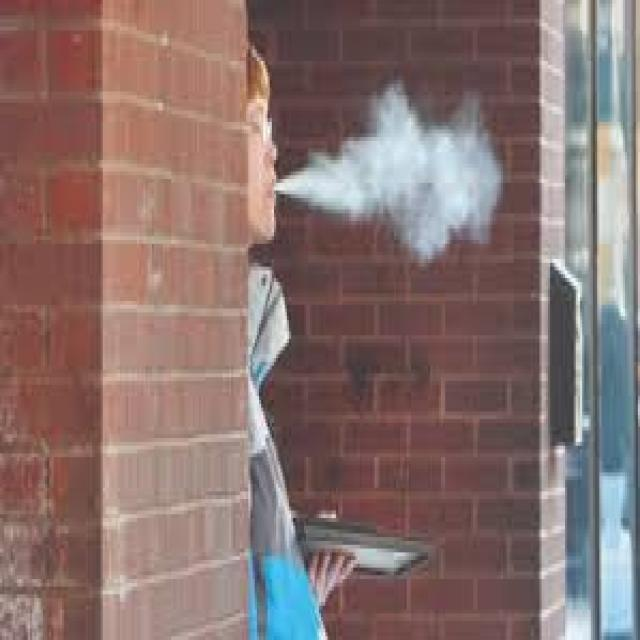Smoke: (282, 92, 494, 256)
